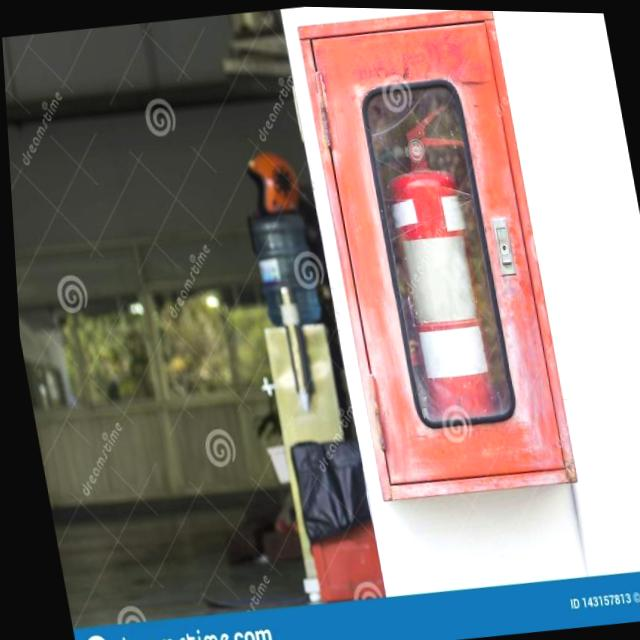FireExtinguisher: (350, 91, 518, 437)
